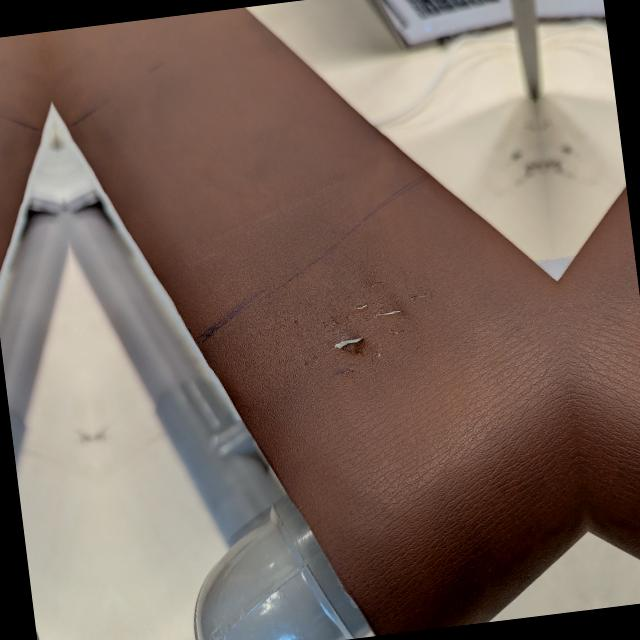belt_crack: (272, 251, 443, 396)
